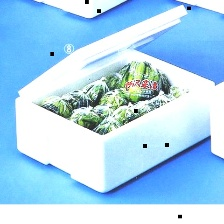foam_box: (10, 0, 218, 195), (28, 0, 135, 23), (205, 75, 223, 163)
